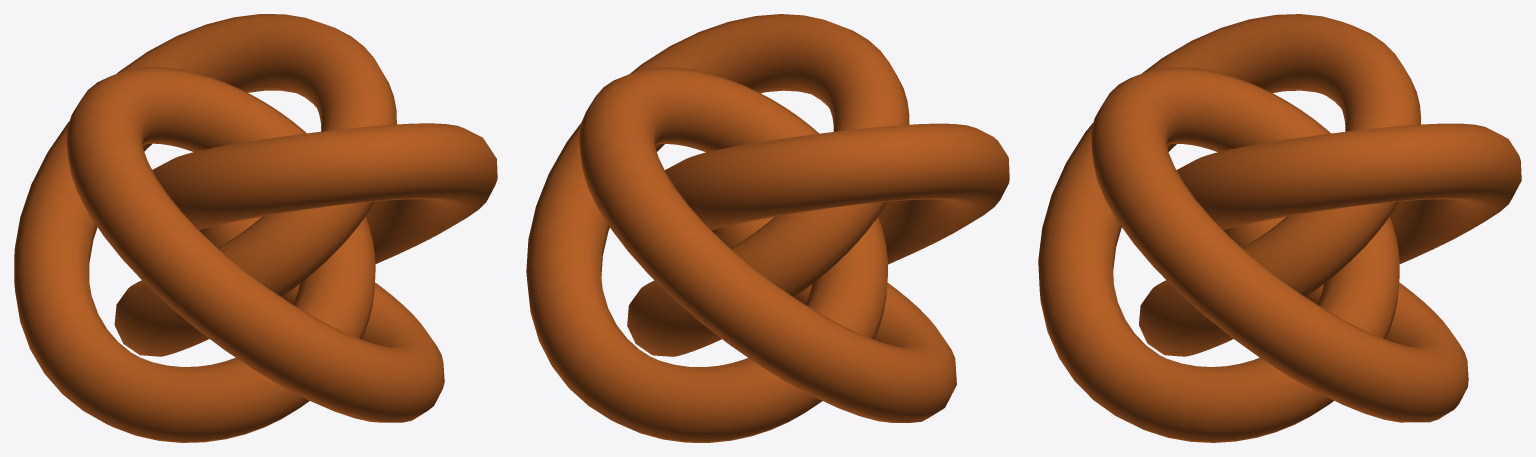
The model's file is knot.DAE.
The picture shows the model from 3 angles, left to right: view 1: azimuth 30°, elevation 25°; view 2: azimuth 150°, elevation 25°; view 3: azimuth 270°, elevation 25°; orthographic projection.
Parts seen in each view (by area): view 1: Torus_Knot01; view 2: Torus_Knot01; view 3: Torus_Knot01.
Part boxes in pixels (x1,y1,x2,y2): Torus_Knot01: (14, 14, 497, 442); Torus_Knot01: (526, 14, 1009, 442); Torus_Knot01: (1038, 14, 1521, 442).
Size of the model in its own units: 3.68 by 3.78 by 2.62.
